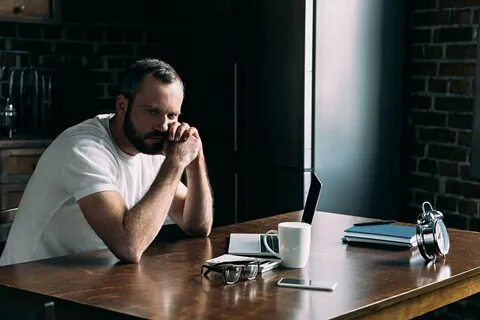awake: (1, 56, 216, 268)
